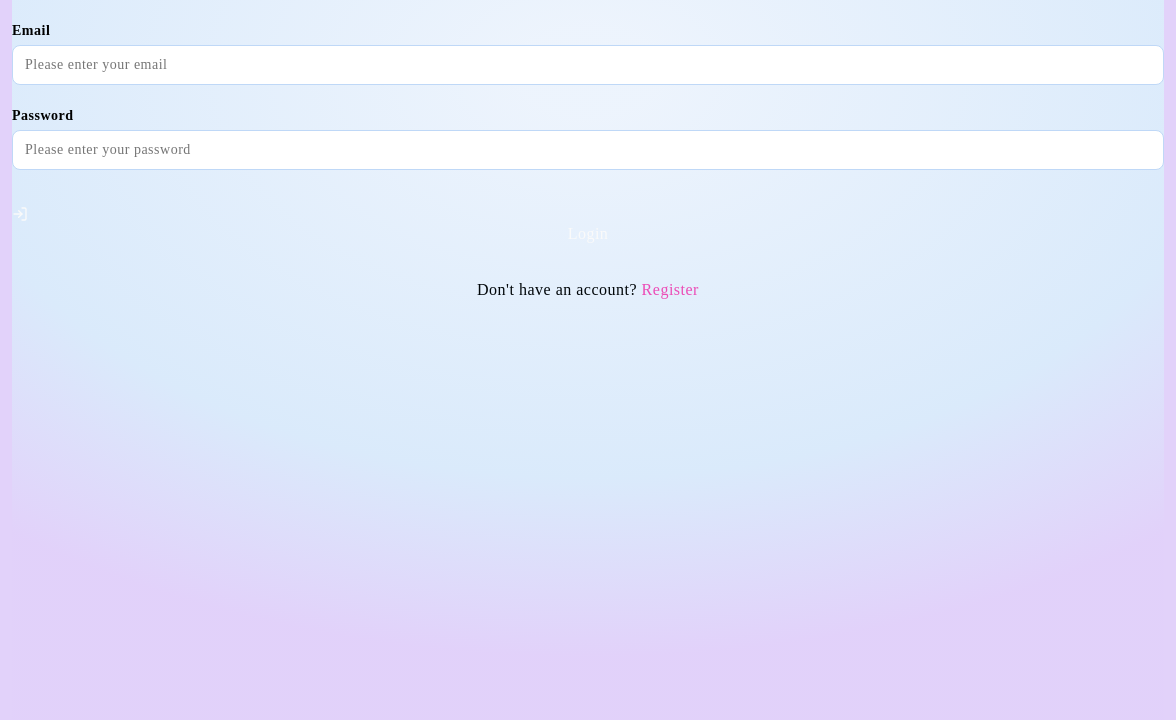
Test: Login Form › shows validation errors when fields are empty on submit
The image size is (1176, 720).
Click the button "Login" at (588, 226), box [12, 186, 1164, 266]
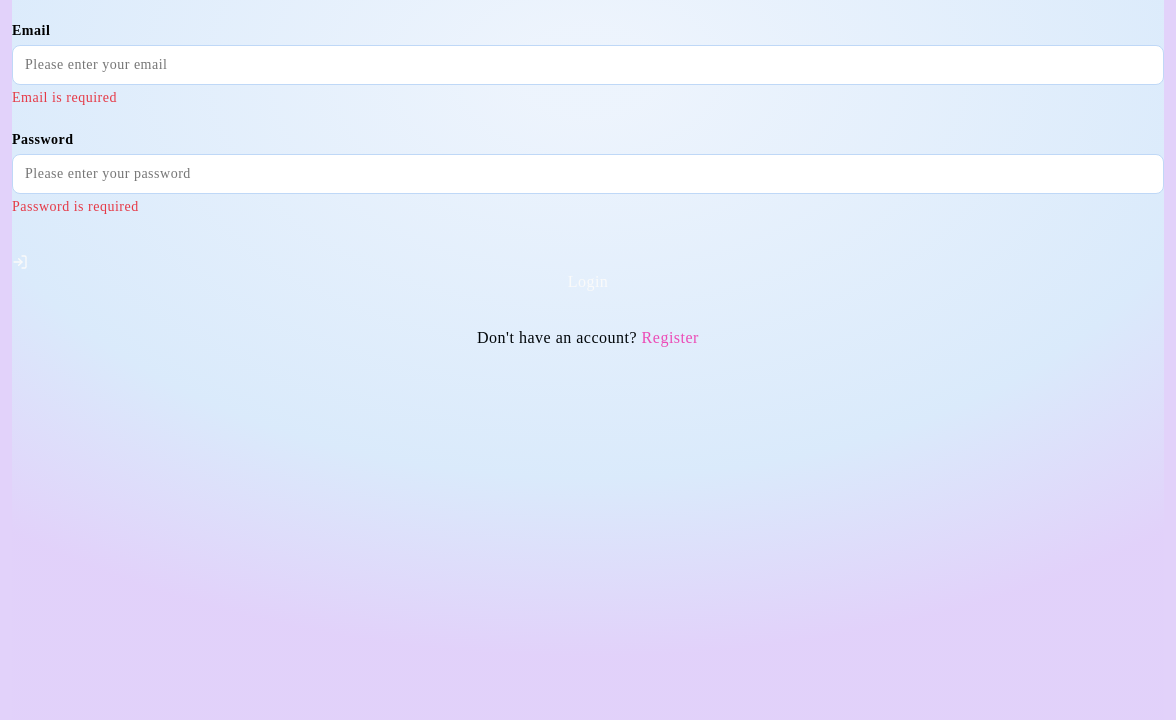
Expected: the text "Email is required" is shown, [12, 90, 117, 105]
Expected: the text "Password is required" is shown, [12, 199, 139, 214]
